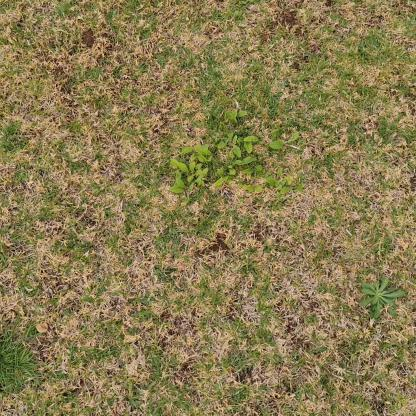Weeds: (170, 110, 303, 198), (359, 278, 405, 320)
